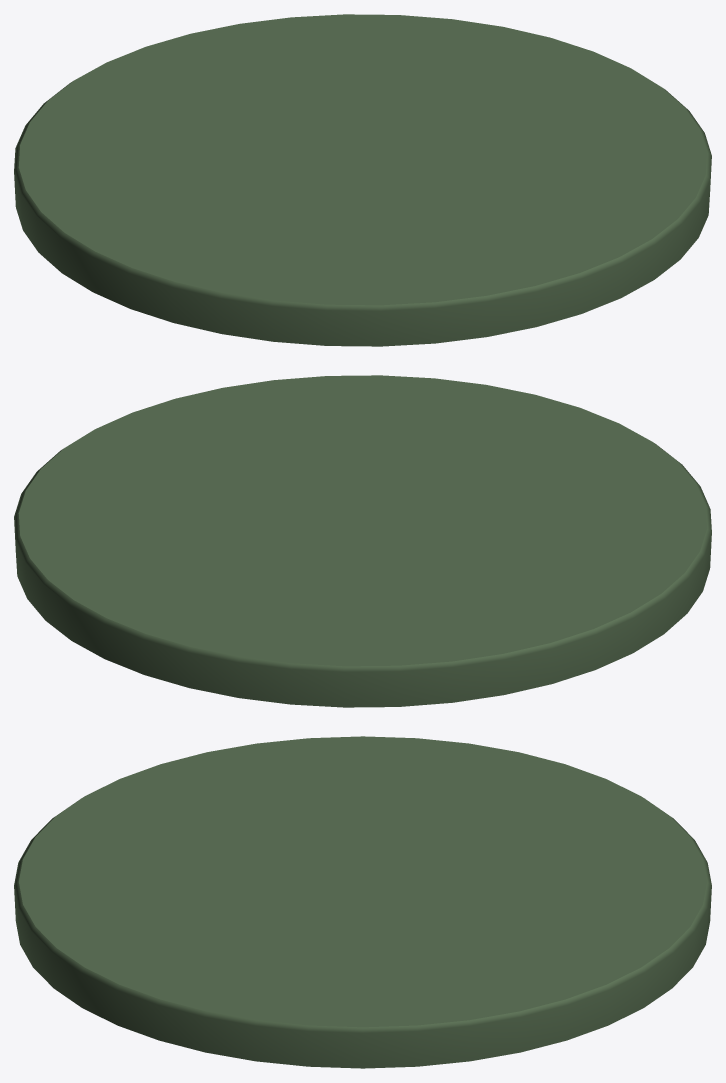
Rendered from Checker_Sp_Circle_02.fbx.
The picture shows the model from 3 angles, top to bottom: view 1: azimuth 30°, elevation 25°; view 2: azimuth 150°, elevation 25°; view 3: azimuth 270°, elevation 25°; orthographic projection.
Parts seen in each view (by area): view 1: Checker_Sp_Circle_02; view 2: Checker_Sp_Circle_02; view 3: Checker_Sp_Circle_02.
Part boxes in pixels (x1,y1,x2,y2): Checker_Sp_Circle_02: (14, 14, 711, 346); Checker_Sp_Circle_02: (14, 375, 711, 707); Checker_Sp_Circle_02: (14, 736, 711, 1068).
Size of the model in its own units: 8.8 by 0.5564 by 8.8.
